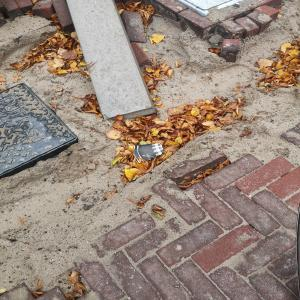Cup: (130, 142, 167, 165)
